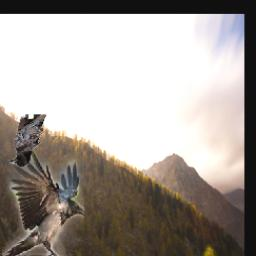Crow: (2, 149, 84, 256), (8, 115, 47, 168)
